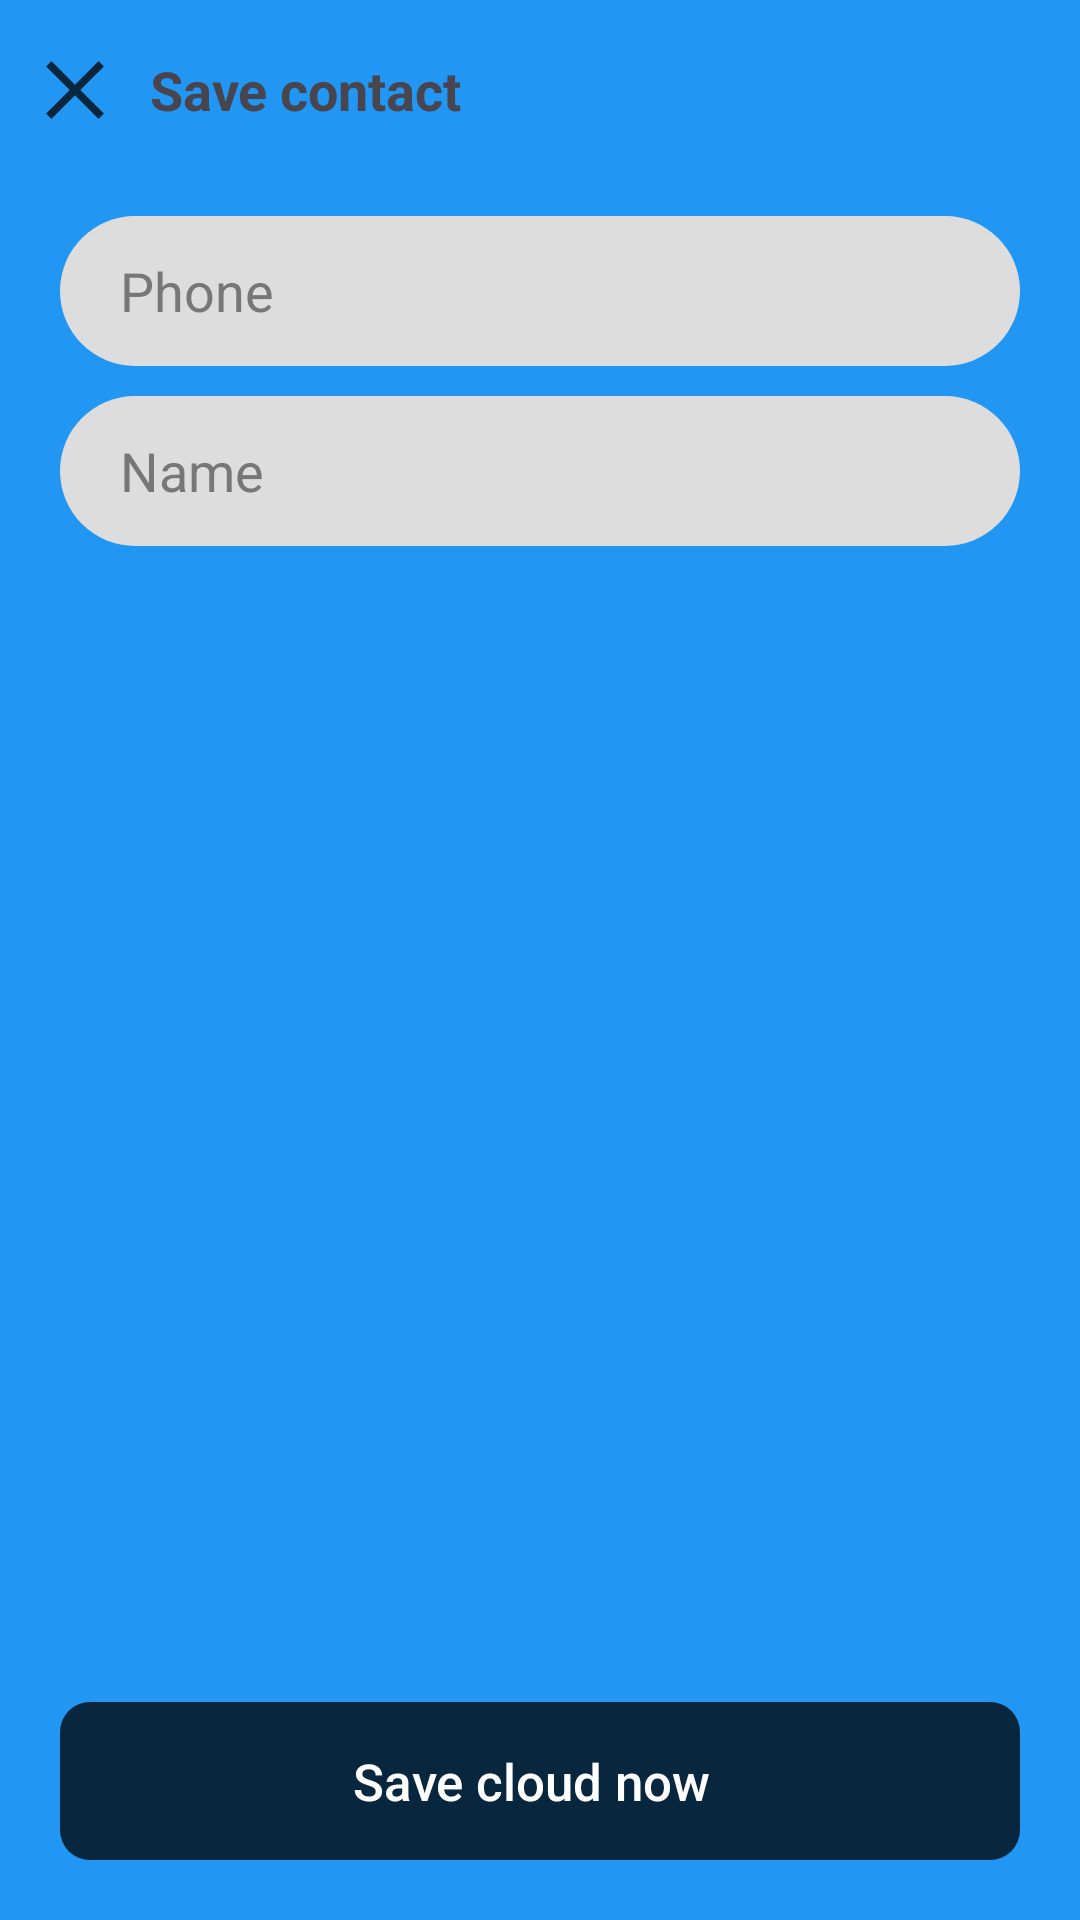

Where icons sit on this 1080x1920 app screen, as (x1, y1, x2, y2):
Back to previous screen: (46, 61, 104, 119)
